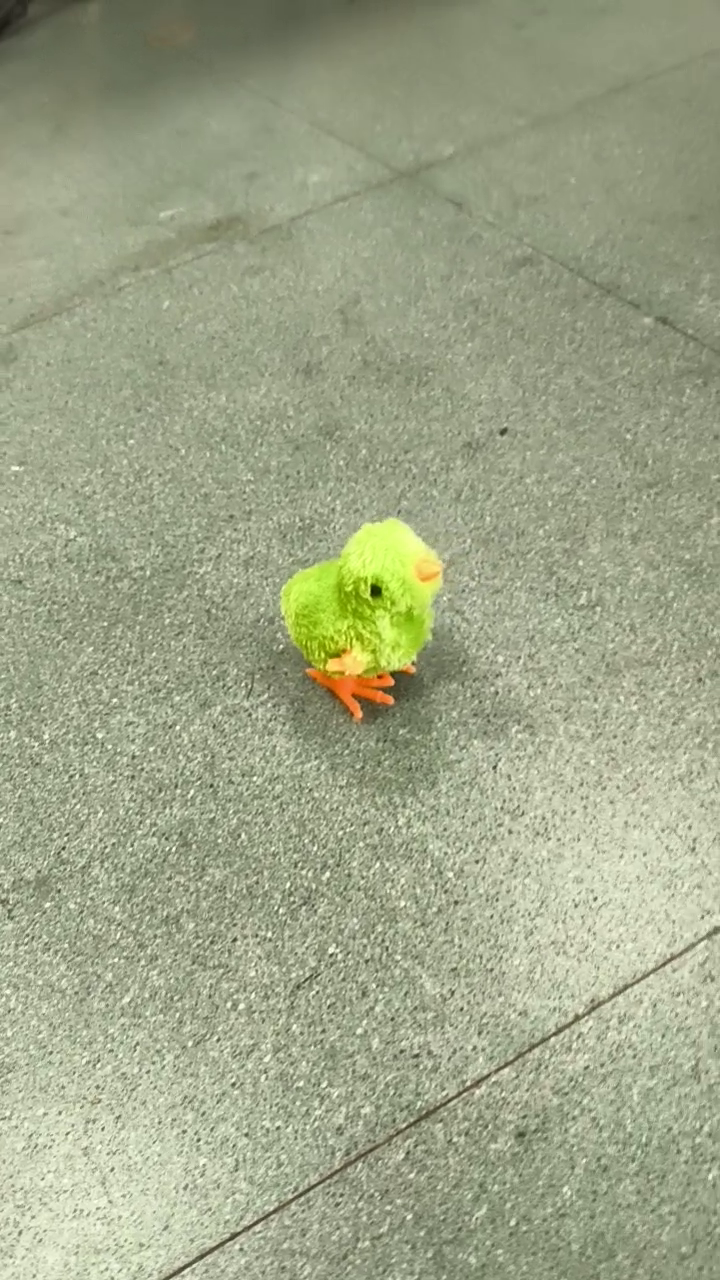green chicken: (274, 512, 452, 721)
